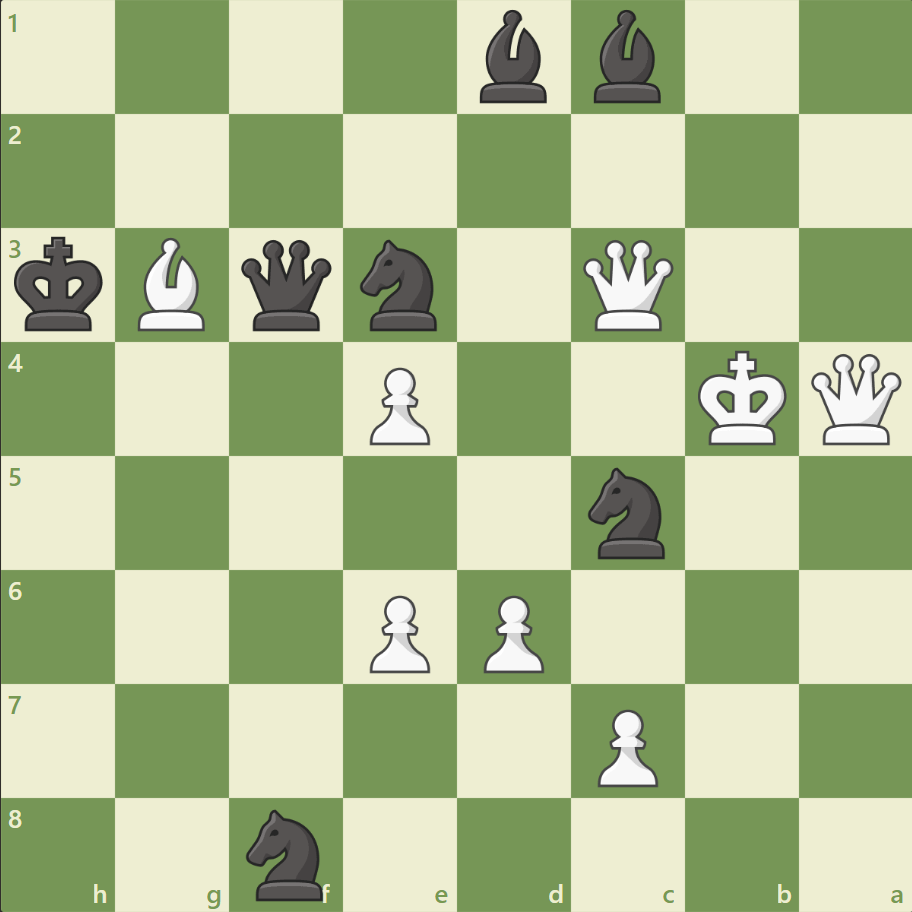B: (131, 233, 215, 336)
K: (692, 344, 792, 452)
P: (474, 586, 549, 677), (588, 700, 662, 791), (361, 586, 435, 677), (361, 359, 435, 450)
Q: (805, 349, 904, 449), (578, 236, 677, 335)
b: (585, 6, 669, 109), (471, 6, 555, 109)
k: (11, 231, 111, 339)
n: (351, 234, 449, 337), (579, 461, 676, 564), (238, 802, 335, 904)
q: (237, 236, 336, 335)
